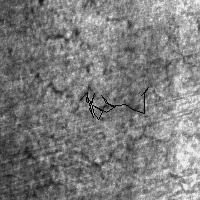crazing: (19, 79, 148, 168), (44, 10, 170, 76), (80, 87, 148, 119)
